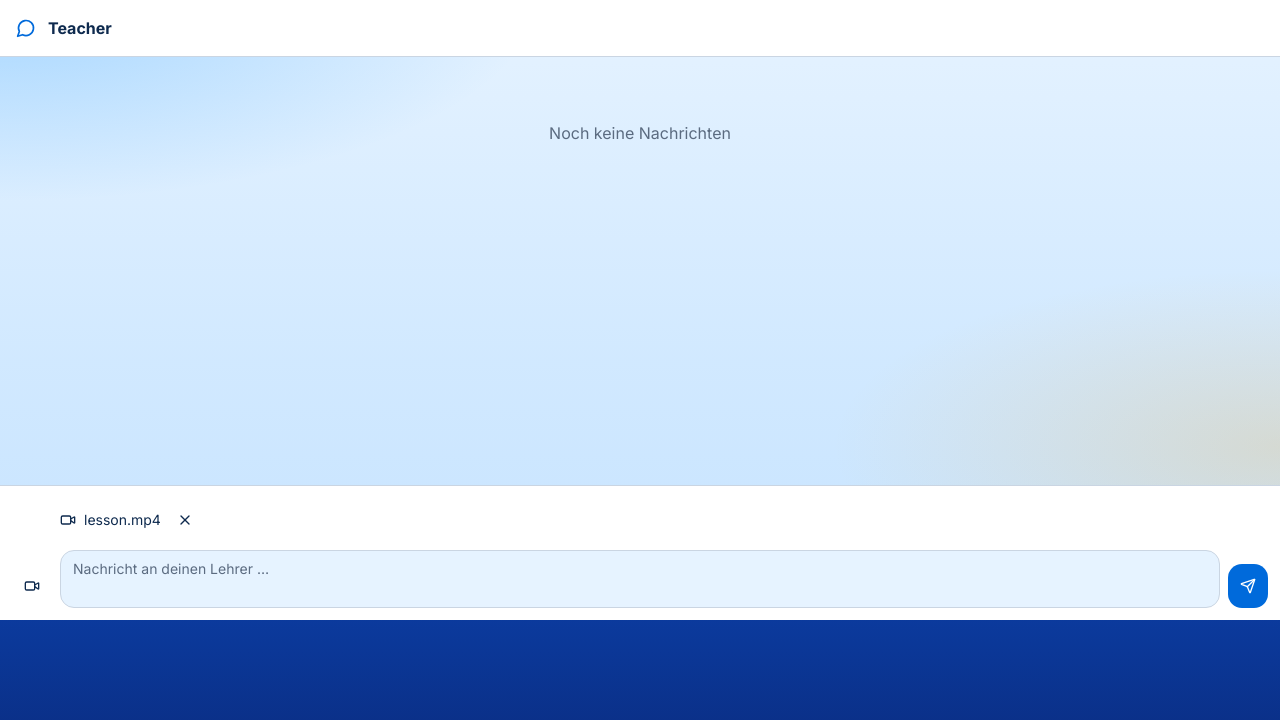
Test: teacher video messaging flow › retries the same uploaded path after a failed message response
Earlier steps of the test are not shown.
Later steps or results of the test are not shown.
Expected: the button named "Video hinzufügen" is enabled, [12, 564, 52, 608]
Type "My lesson" into the text box at [640, 579], box [60, 550, 1220, 608]
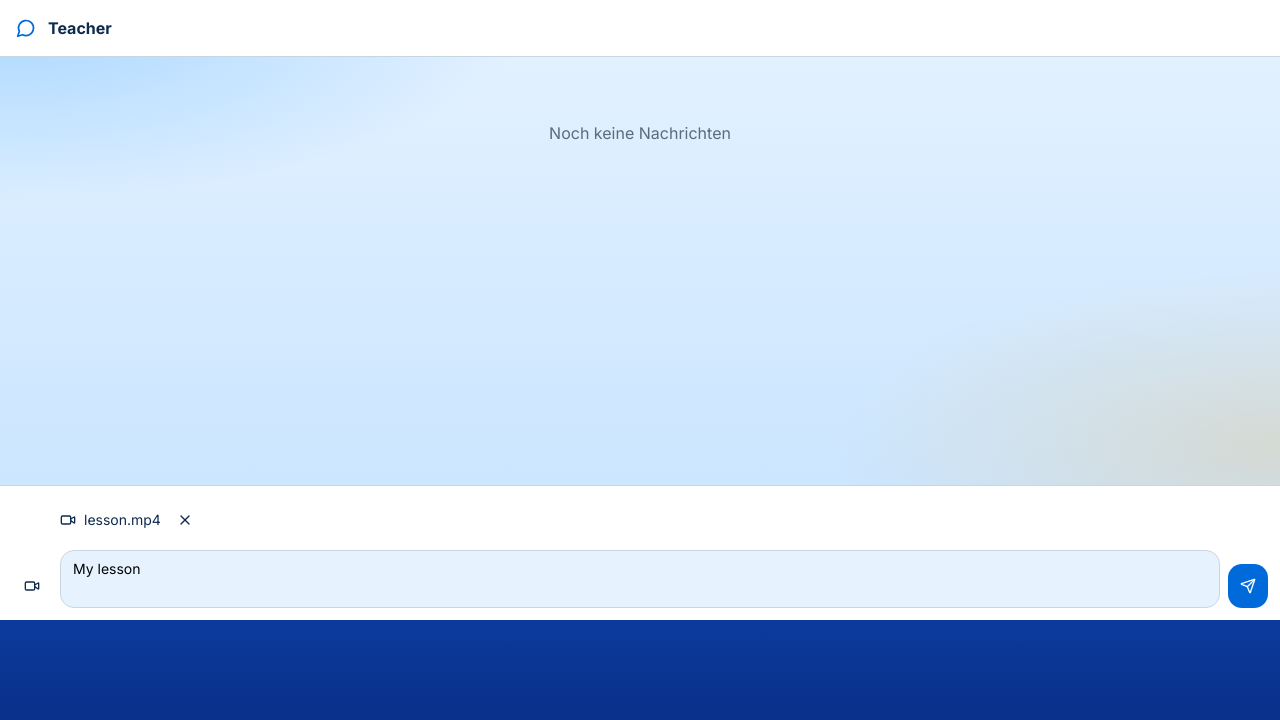
Click the button named "Senden" at [1248, 586], box [1228, 564, 1268, 608]
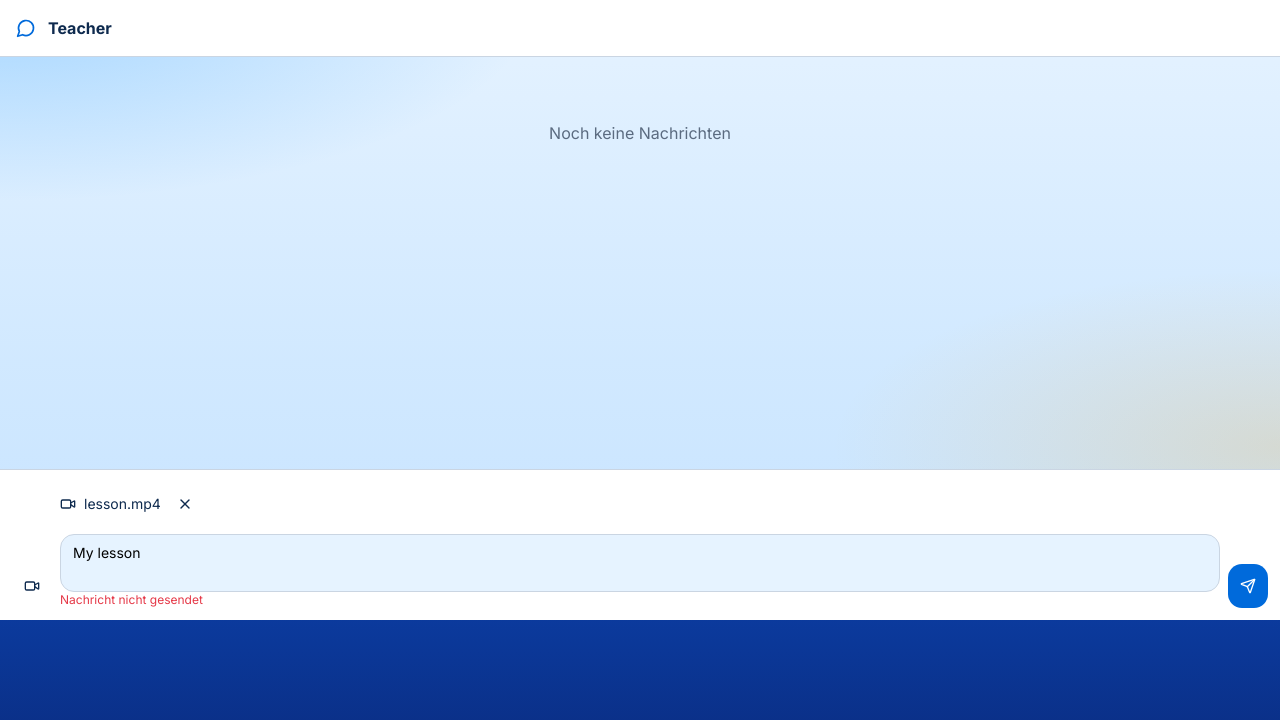
Now the message "Nachricht nicht gesendet" is shown, box [60, 592, 203, 607]
